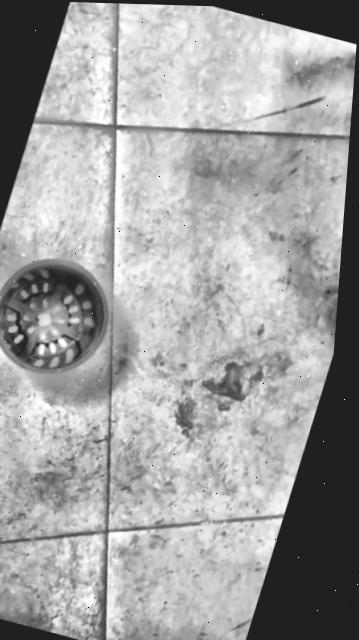pot: (0, 248, 124, 385)
